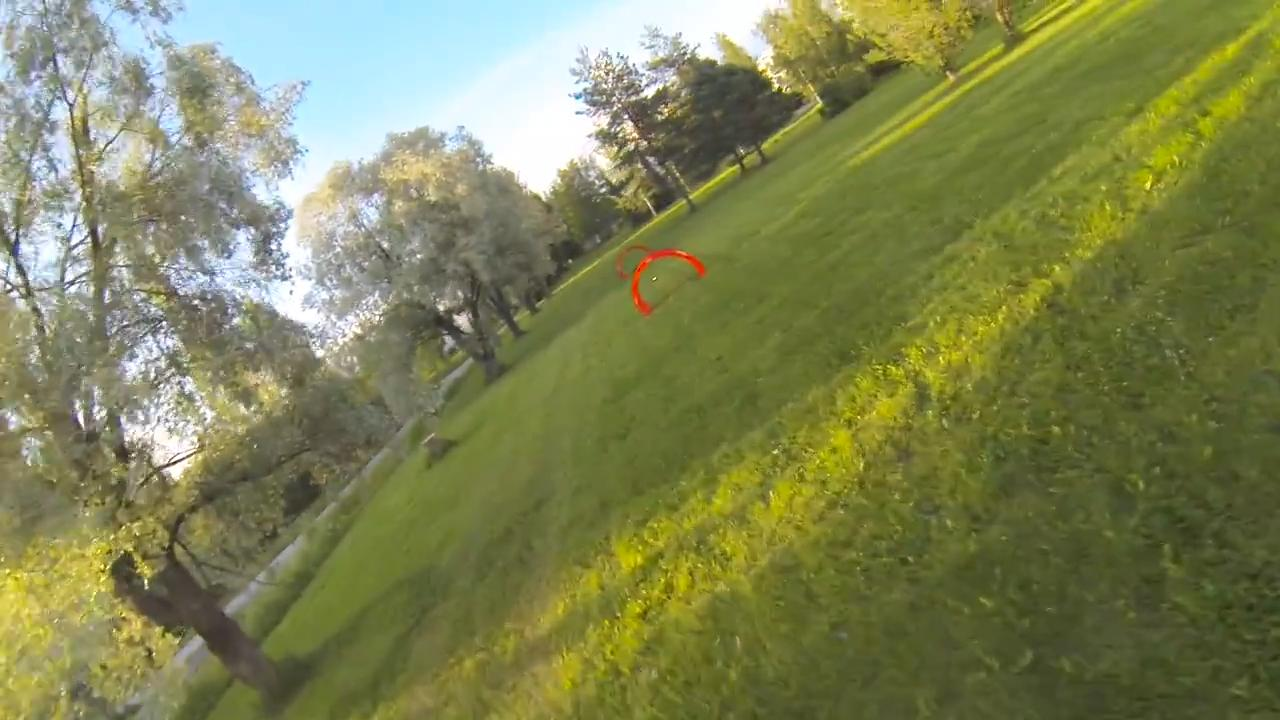gate: (628, 248, 706, 314)
